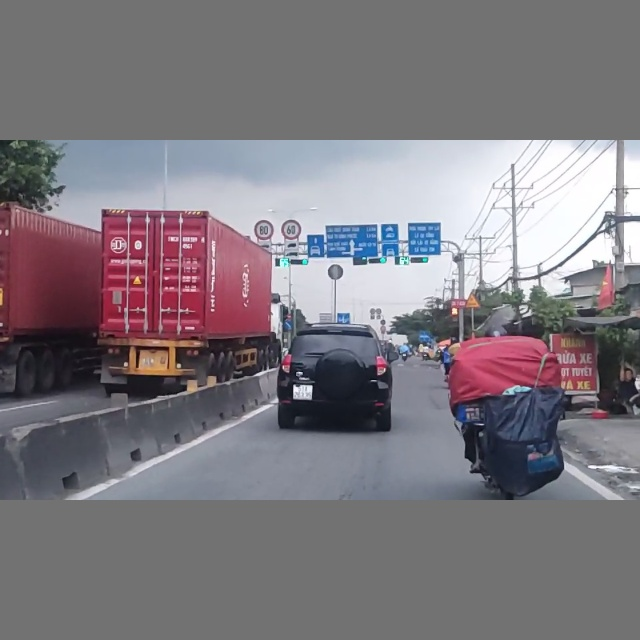P.102: (286, 313, 292, 319)
P.127*60: (281, 219, 302, 241)
P.127*80: (255, 220, 273, 240)
R.302a: (284, 321, 293, 329)
W.245a: (465, 292, 480, 308)
